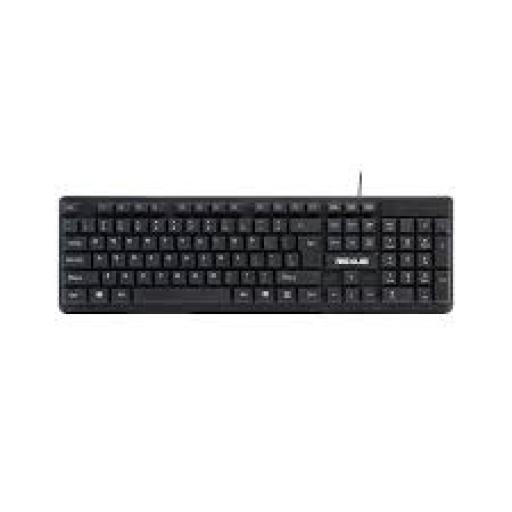KEYBOARD-2: (59, 196, 451, 312)
